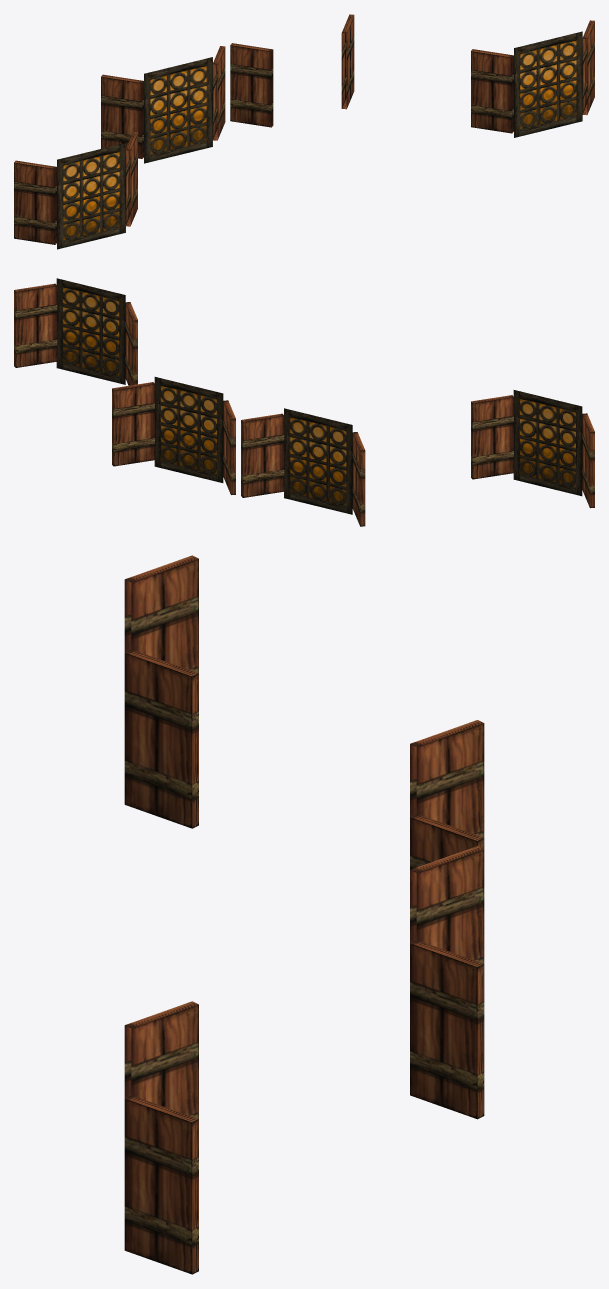
File: LAKETOWN_EXTERIOR_PS_LT_ROUND_WINDOW1_03.fbx
3 renders of one model, top to bottom at view 1: azimuth 30°, elevation 25°; view 2: azimuth 150°, elevation 25°; view 3: azimuth 270°, elevation 25°, orthographic. The views are drawn at different scales.
Visible parts, largest first — view 1: LAKETOWN_EXTERIOR_PS_LT_ROUND_WINDOW1_03; view 2: LAKETOWN_EXTERIOR_PS_LT_ROUND_WINDOW1_03; view 3: LAKETOWN_EXTERIOR_PS_LT_ROUND_WINDOW1_03.
Part boxes in pixels (x1,y1,x2,y2): LAKETOWN_EXTERIOR_PS_LT_ROUND_WINDOW1_03: [14, 14, 594, 249]; LAKETOWN_EXTERIOR_PS_LT_ROUND_WINDOW1_03: [14, 278, 594, 526]; LAKETOWN_EXTERIOR_PS_LT_ROUND_WINDOW1_03: [124, 555, 484, 1274].
Size of the model in its own units: 99064 by 15452 by 26533.
Materials: 2 (2 with a texture image).
